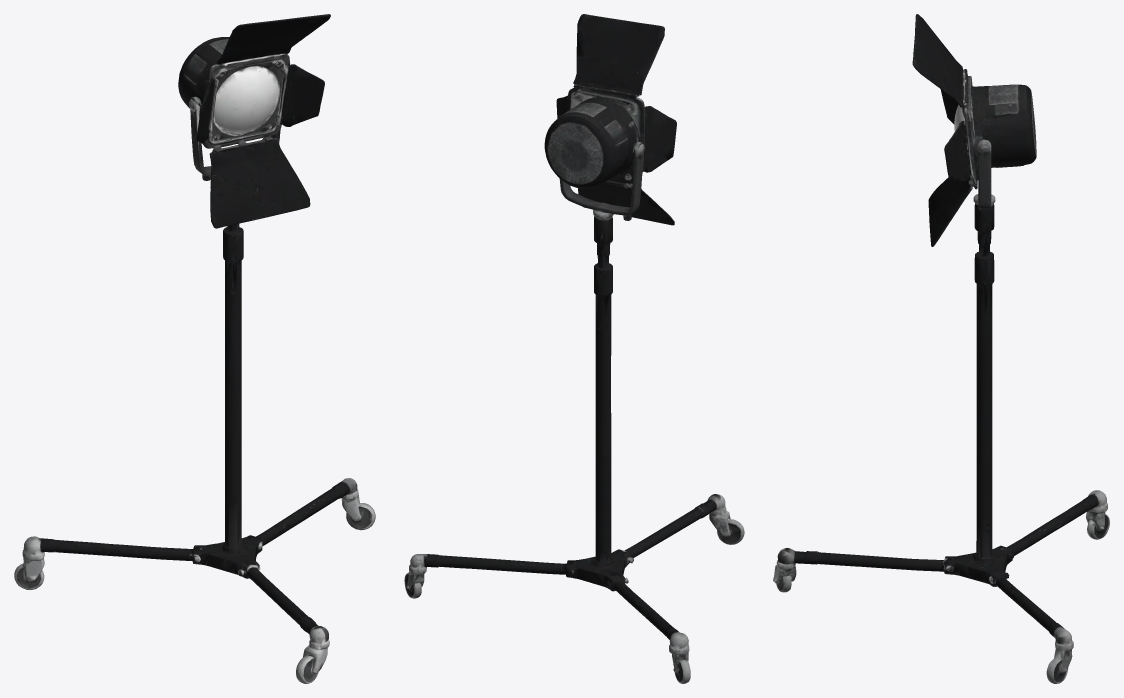
Rendered from spotlight.glb.
3 renders of one model, left to right at view 1: azimuth 30°, elevation 25°; view 2: azimuth 150°, elevation 25°; view 3: azimuth 270°, elevation 25°, orthographic. The views are drawn at different scales.
Size of the model in its own units: 1.09 by 1.9 by 1.
1 material, 1 textured.
